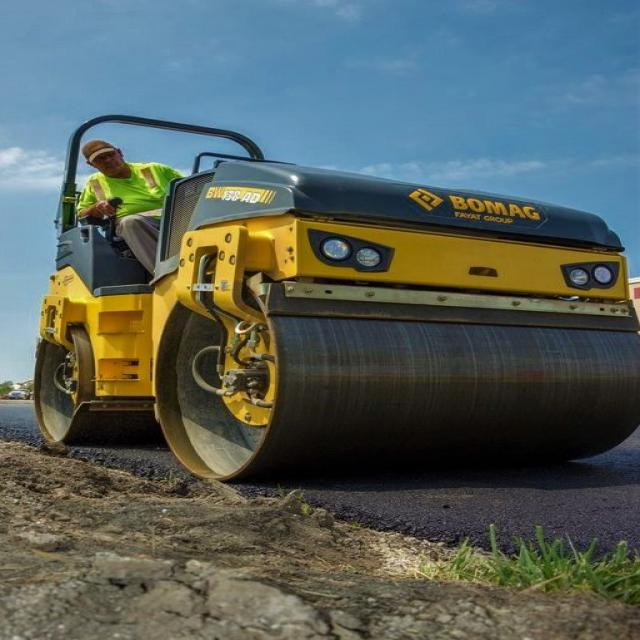asphalt: (236, 427, 640, 548), (70, 436, 182, 474), (0, 404, 38, 442)
grass: (421, 525, 640, 606)
red-sand: (0, 440, 640, 640)
